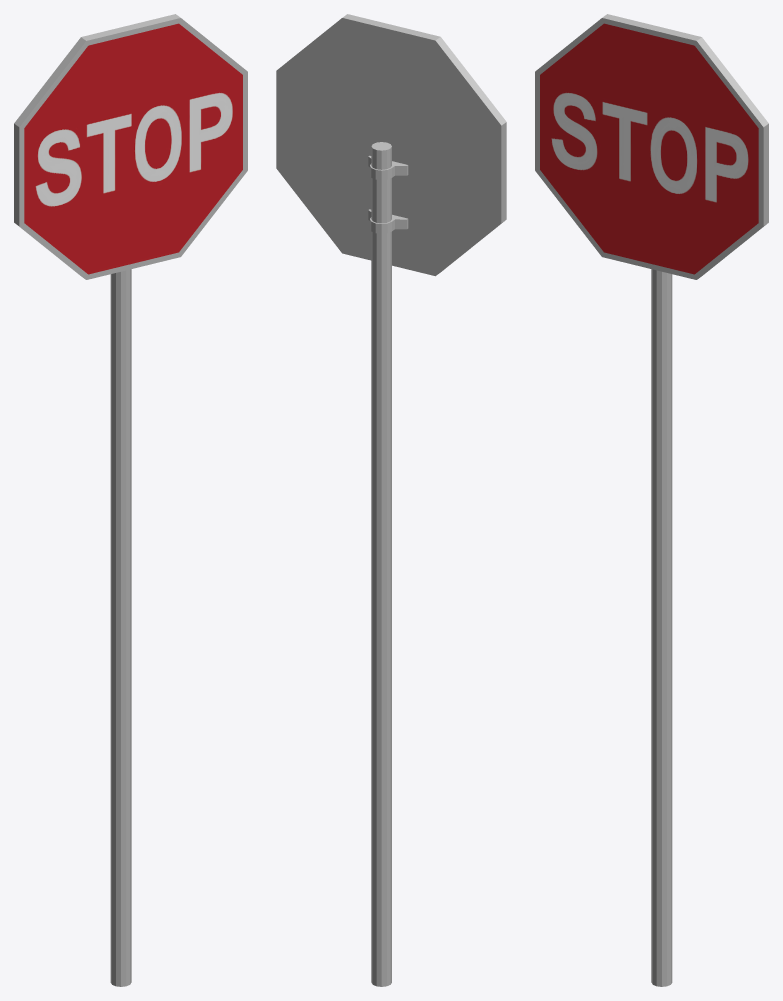
The model's file is SM_Sign_02.fbx.
3 views of the same model, side by side, from view 1: azimuth 30°, elevation 25°; view 2: azimuth 150°, elevation 25°; view 3: azimuth 330°, elevation 25° (orthographic).
Parts seen in each view (by area): view 1: SM_Sign_02; view 2: SM_Sign_02; view 3: SM_Sign_02.
Boxes of the visible parts, x1,y1,x2,y2 form: SM_Sign_02: (14, 14, 247, 986); SM_Sign_02: (276, 14, 506, 986); SM_Sign_02: (535, 14, 768, 986).
Size of the model in its own units: 71.78 by 289 by 10.12.
